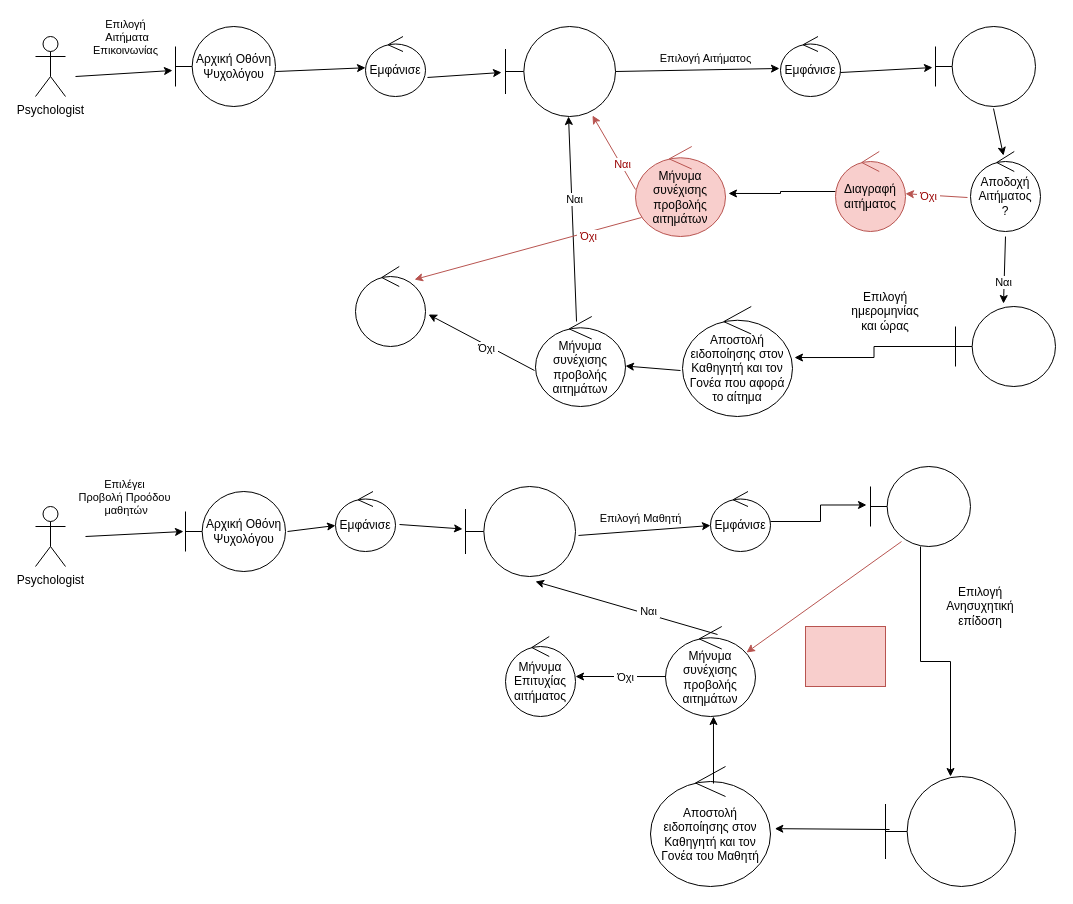
Some shapes in this 1073 by 904 pixel diagram are drawn without their labels. Here are the shapes that lost their labels. From the top down, the centre of each, then its label:
(560,71): Λίστα με αιτήματα επικοινωνίας
(985,66): Λεπτομέρειες αιτήματος
(390,306): Μήνυμα Επιτυχίας αίτησης
(1005,346): Οθόνη Ημερολογίου
(920,506): Λεπτομέρειες προόδου Μαθητή
(520,531): Λίστα με ονόματα μαθητών και Μ.Ο. τους
(845,656): Επιλογή συνέχιση προβολής
(950,831): Ορισμός πιθανής ημερομηνίας και ώρας επικοινωνίας
